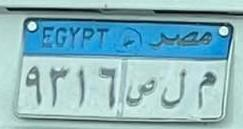1: (74, 63, 90, 113)
3: (46, 59, 70, 111)
6: (94, 62, 120, 110)
9: (24, 63, 43, 111)
ص: (123, 71, 157, 107)
ل: (156, 63, 190, 108), (156, 64, 189, 109)
م: (194, 68, 221, 109)
